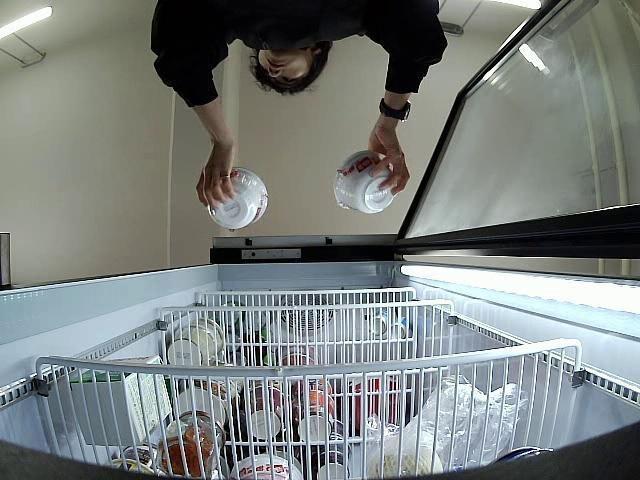09_yukGaeJang: (207, 166, 270, 229), (332, 152, 393, 214)
